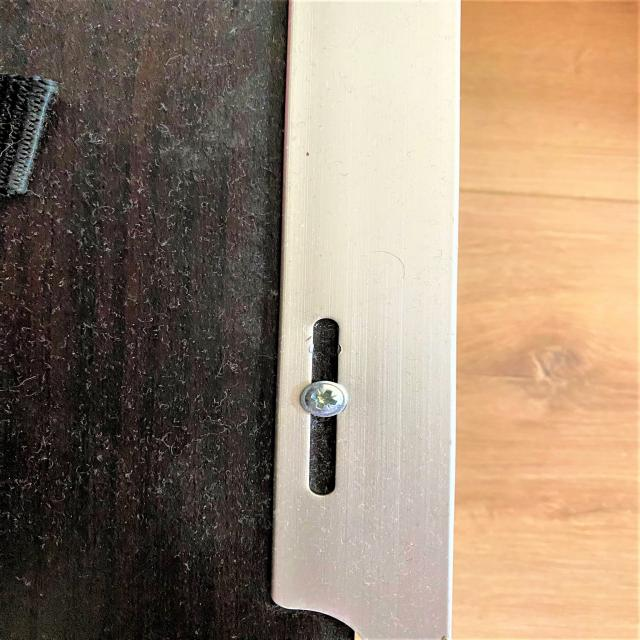PhillipsScrewHead: (300, 380, 349, 419)
